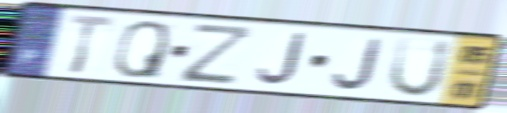J: (255, 31, 309, 87), (331, 36, 385, 92)
Q: (112, 18, 172, 81)
T: (66, 12, 117, 77)
U: (385, 35, 454, 99)
Z: (177, 21, 258, 87)
